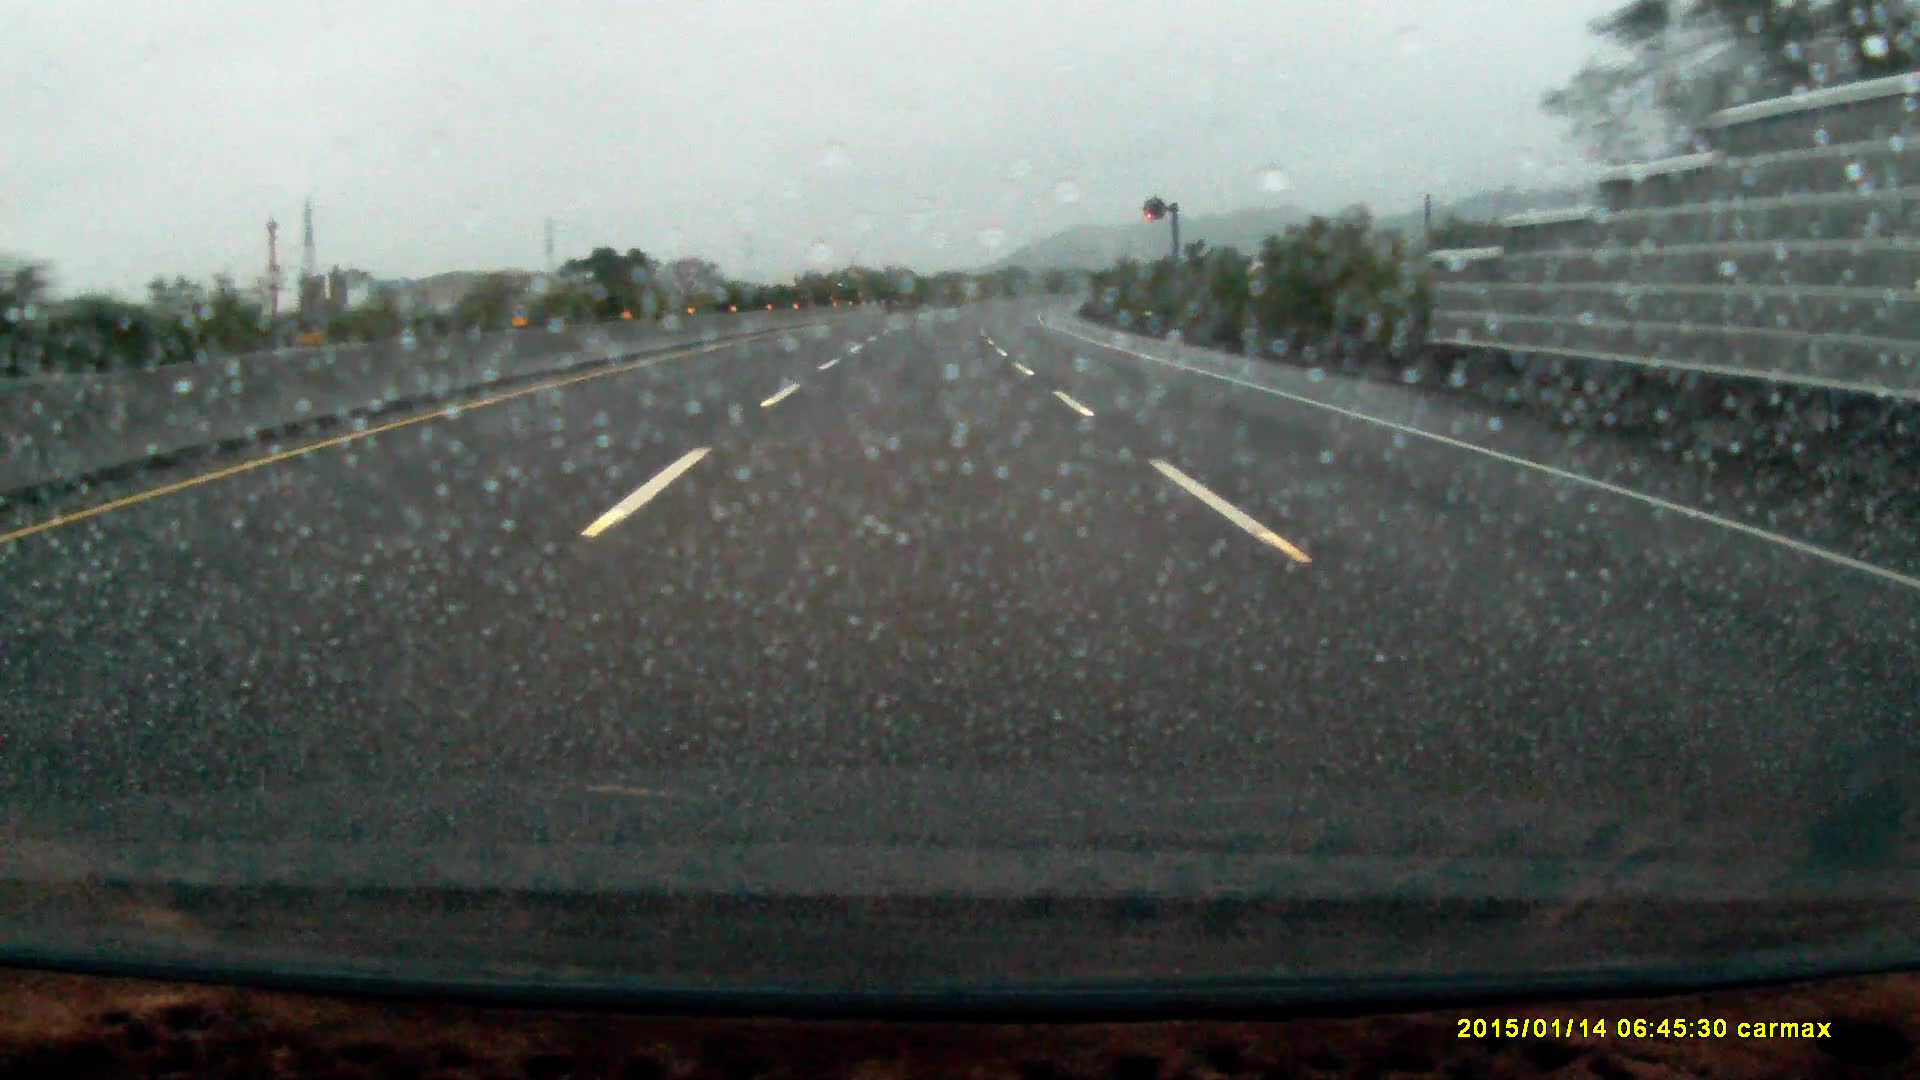vehicle: (831, 269, 872, 307)
